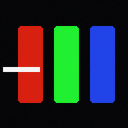3 line_h: (3, 67, 39, 71)
